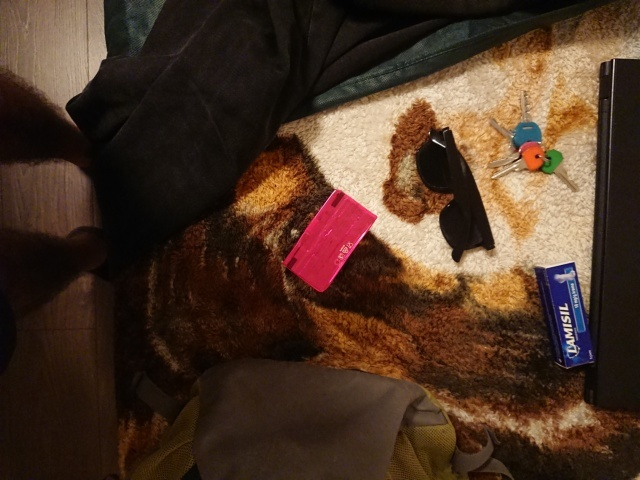Barcaffe Classic Original 225g: (278, 187, 378, 298)
